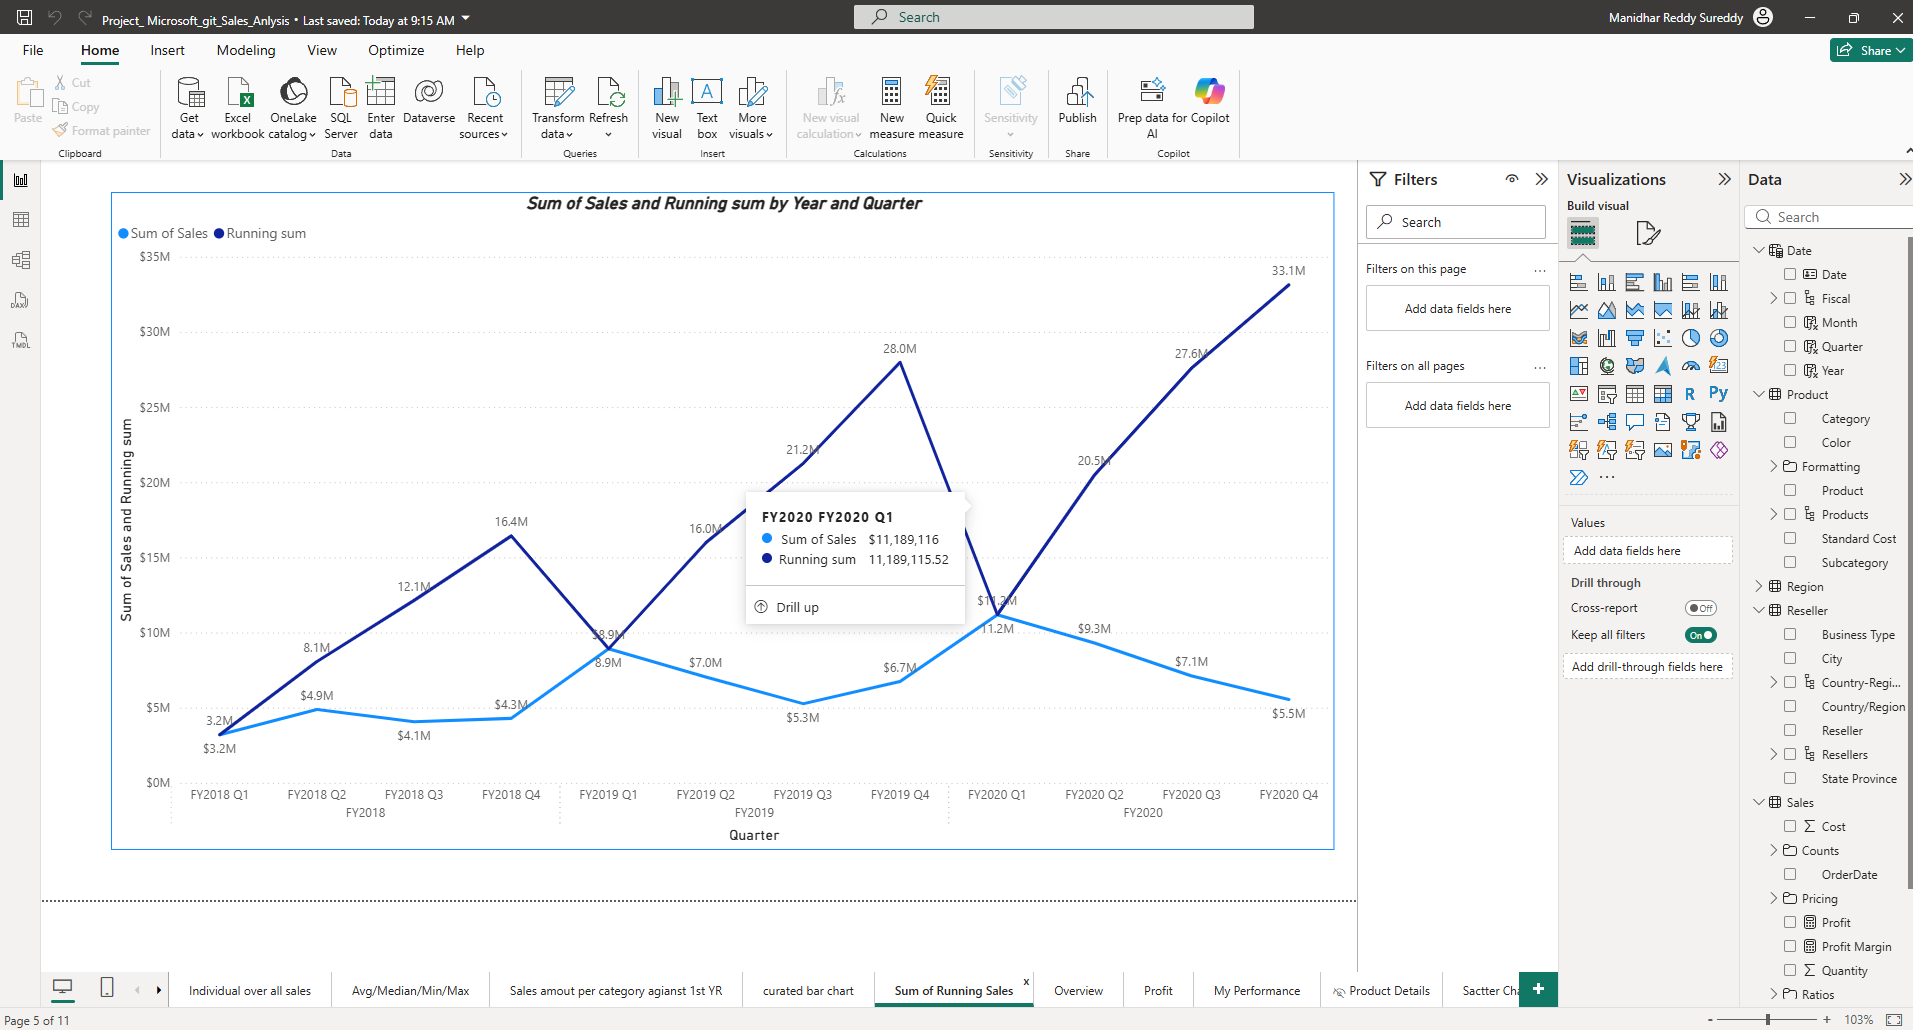

This screenshot's page, from the dashboard's own definition file:
{"tool":"powerbi","page":{"name":"Sum of Running Sales","canvas":[1280,720],"ordinal":4},"visuals":[{"type":"lineChart","fields":{"Category":["Date.Year","Date.Quarter"],"Y":["Sum(Sales.Sales)","select"]},"box":[68.1,31.1,1189.5,640],"z":0}]}

Visuals, with their boxes on the page's 1280x720 design canvas (x1, y1, x2, y2). These are canvas units, not pixel positions in the 1913x1030 screenshot, which may show the page scaled, cropped or inside an application window:
lineChart - Date.Year x Date.Quarter: box=[68, 31, 1258, 671]
